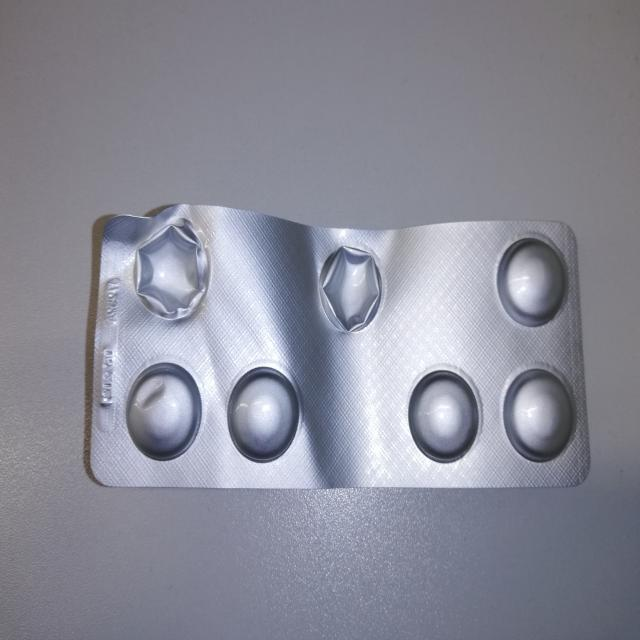Empty: (134, 220, 214, 325), (316, 241, 385, 338)
Pill: (123, 361, 203, 465), (225, 363, 304, 466), (499, 364, 579, 463), (407, 362, 482, 466), (494, 232, 568, 328)
